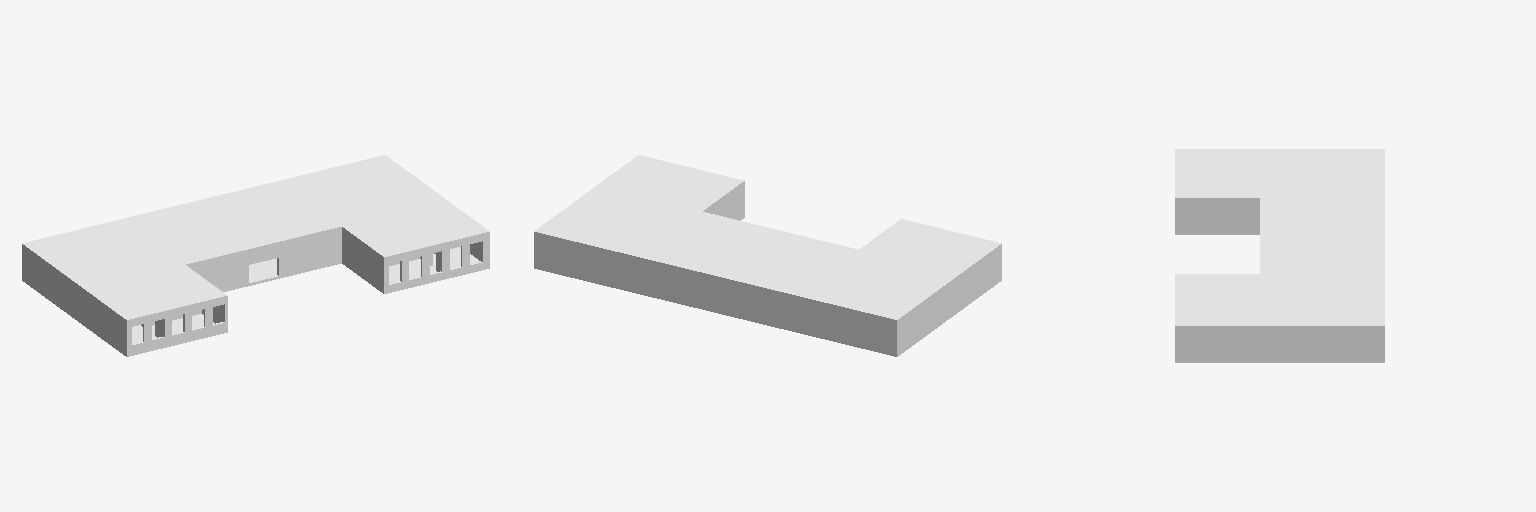
The model's file is school.obj.
The picture shows the model from 3 angles: view 1: azimuth 30°, elevation 25°; view 2: azimuth 150°, elevation 25°; view 3: azimuth 270°, elevation 25°; orthographic projection.
Parts seen in each view (by area): view 1: object 1; view 2: object 1; view 3: object 1.
Part boxes in pixels (left/top/right/bottom): object 1: left=22, top=155, right=489, bottom=356; object 1: left=534, top=155, right=1001, bottom=356; object 1: left=1175, top=149, right=1384, bottom=362.
Bounding box in the file's own units: 14.4 × 1.4 × 7.2.